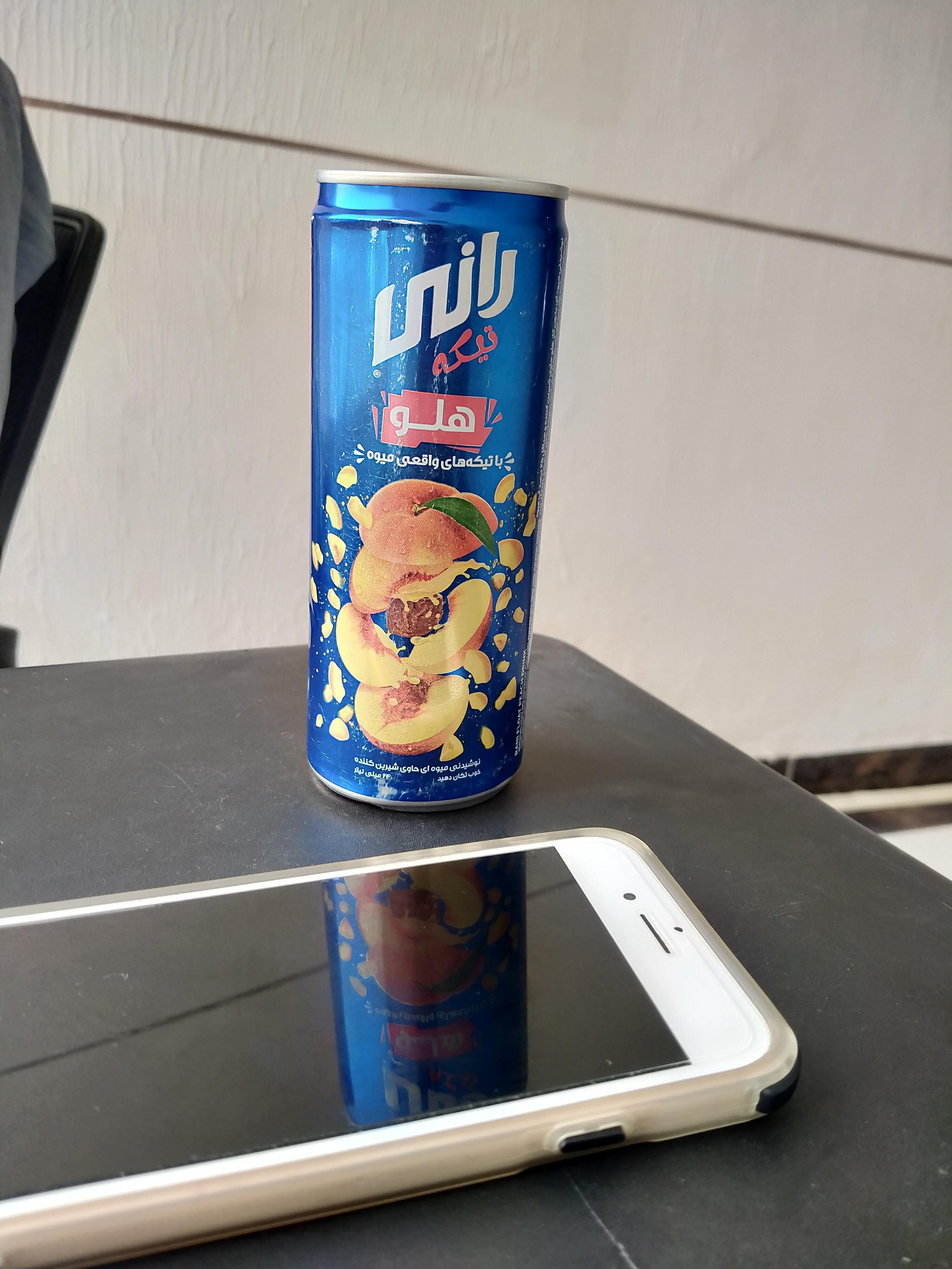tin can: (303, 166, 573, 816)
